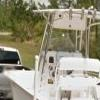Boat: (22, 3, 100, 98)
